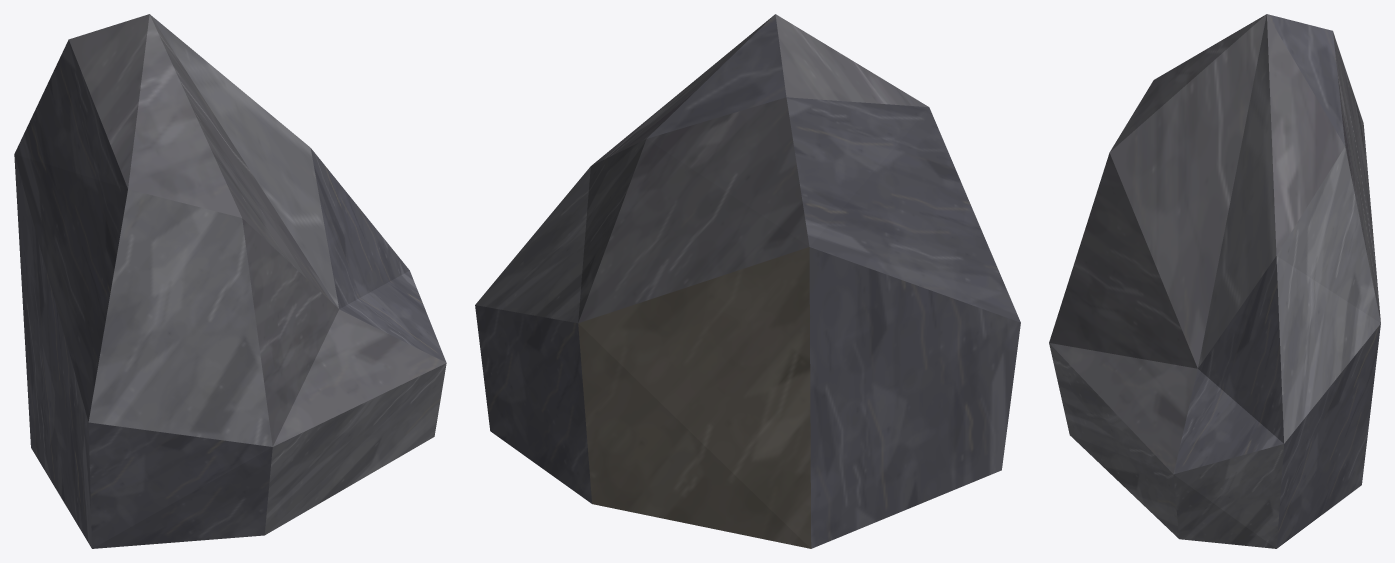
File: debris_rock_shard.glb
The picture shows the model from 3 angles, left to right: view 1: azimuth 30°, elevation 25°; view 2: azimuth 150°, elevation 25°; view 3: azimuth 270°, elevation 25°; orthographic projection. The views are drawn at different scales.
Visible parts, largest first — view 1: Rock Shard; view 2: Rock Shard; view 3: Rock Shard.
Part boxes in pixels (x1,y1,x2,y2): Rock Shard: (14, 14, 446, 548); Rock Shard: (475, 14, 1020, 548); Rock Shard: (1049, 14, 1380, 548).
Size of the model in its own units: 0.129 by 0.133 by 0.096.
Materials: 1 (1 with a texture image).
